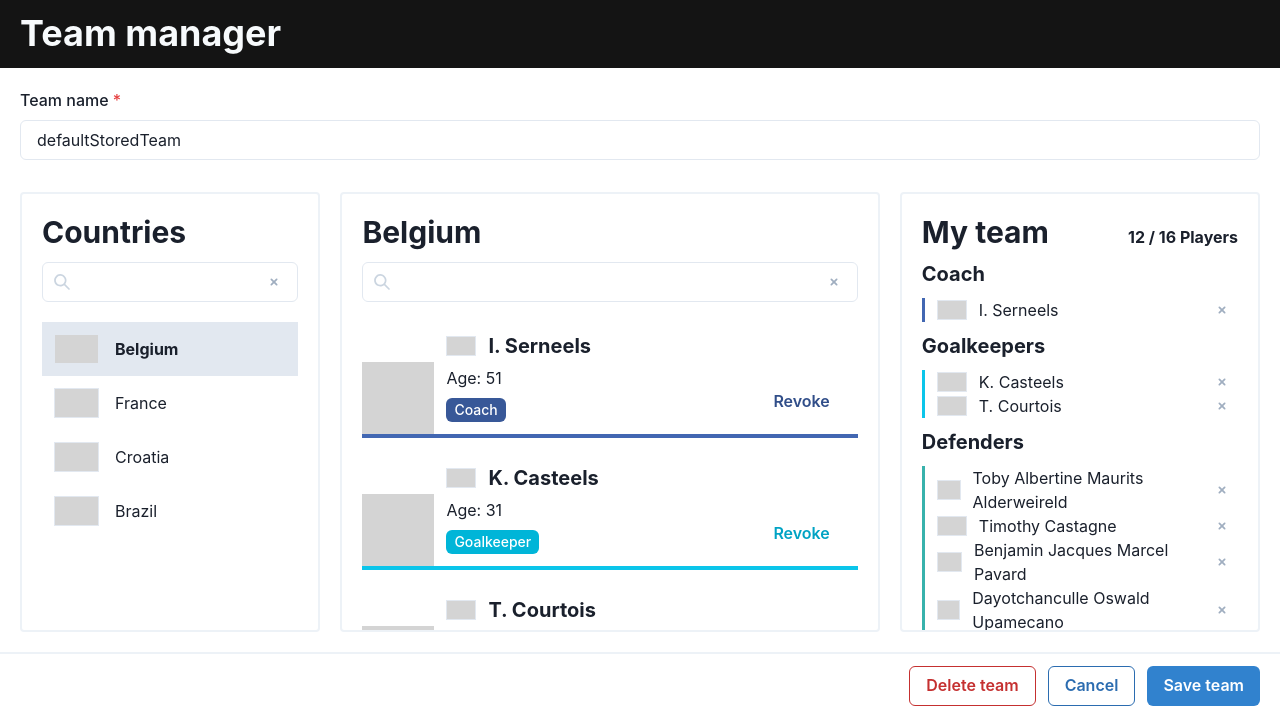
<ManagerPlayersList /> › given the default scenario is stored › should be able to revoke coach enrollment
The width and height of the screenshot is (1280, 720).
Check: the heading "Belgium" is shown, box [362,214,481,250]
Step 1. Click the button named "Revoke enrollment for I. Serneels." → {"x": 802, "y": 402}, box [757,382,846,422]
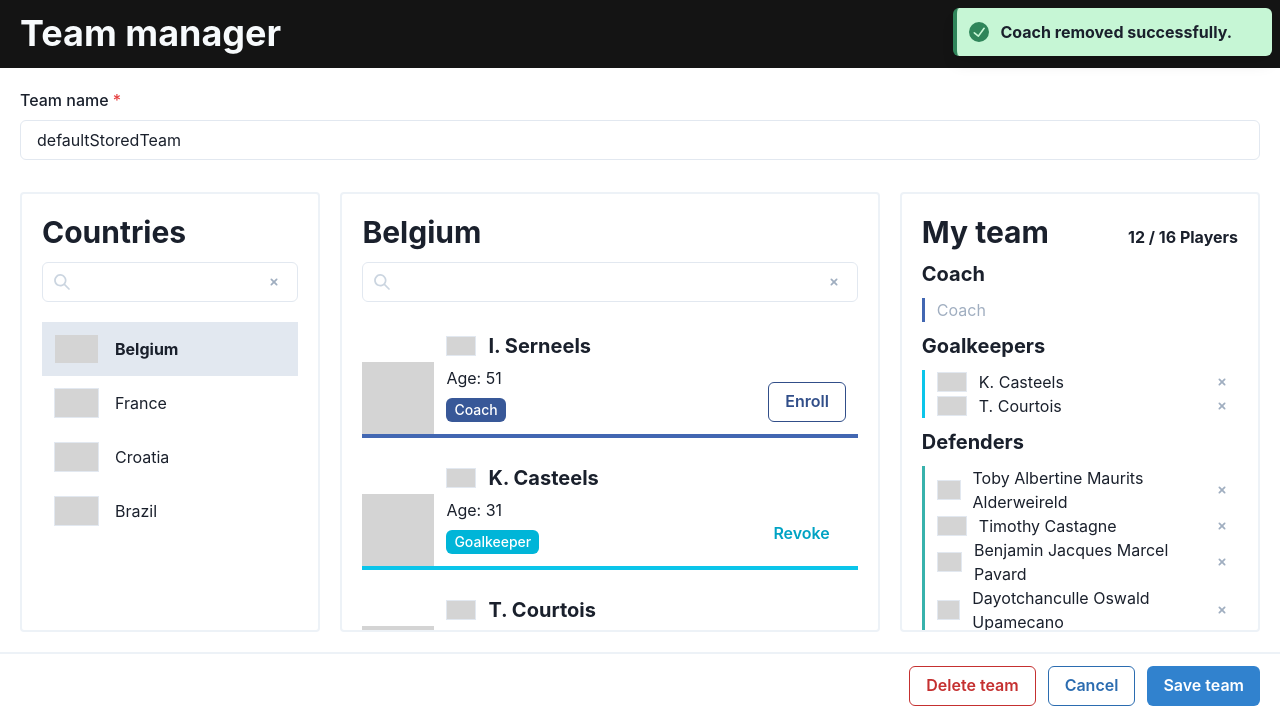
Check: the text "Coach removed successfully." is shown, box [1000,20,1232,44]
